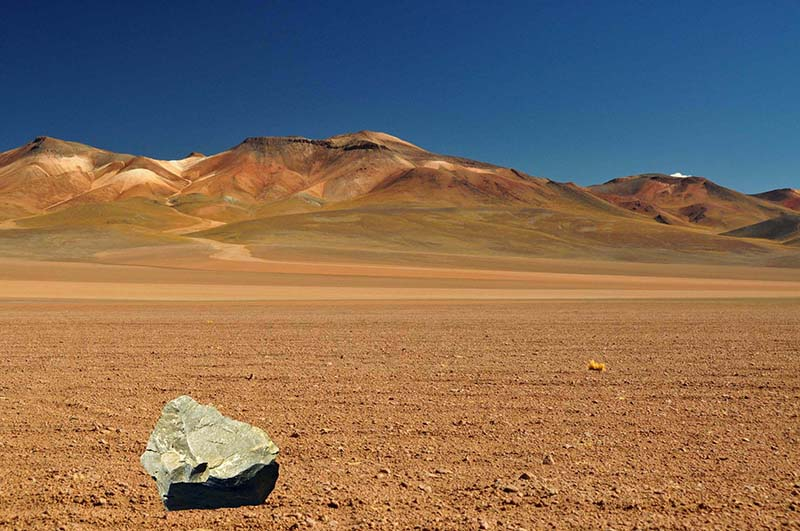Rocks: (131, 391, 290, 514)
